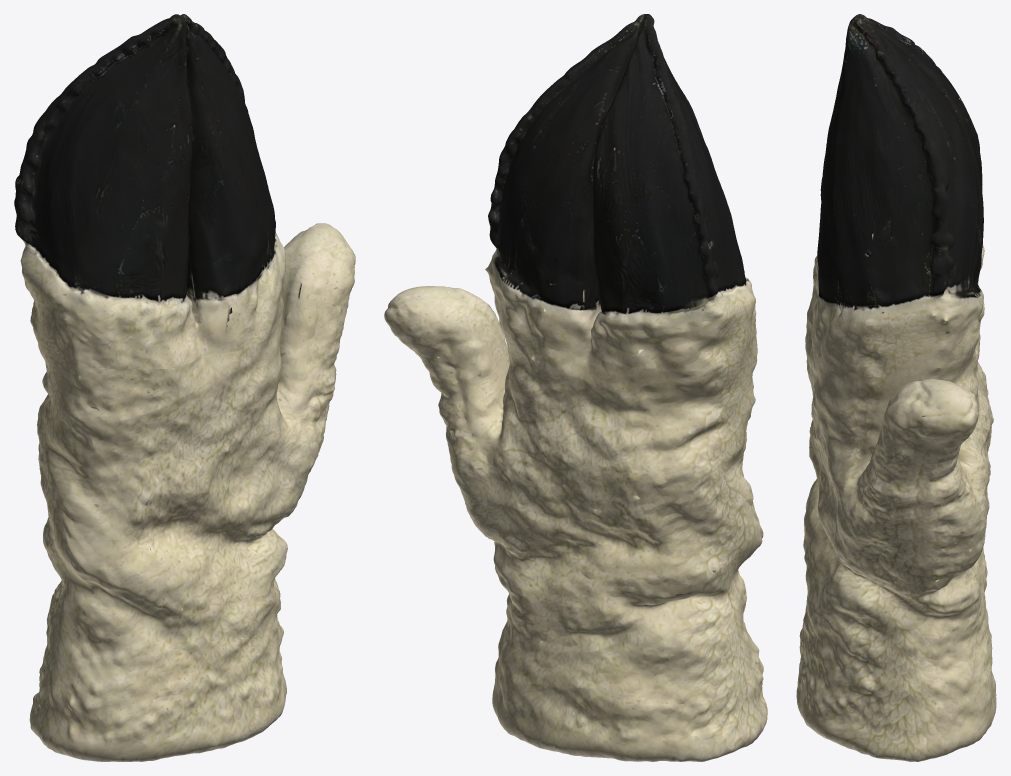
The model's file is Glove_L.glb.
3 renders of one model, left to right at view 1: azimuth 30°, elevation 25°; view 2: azimuth 150°, elevation 25°; view 3: azimuth 270°, elevation 25°, orthographic. The views are drawn at different scales.
Visible parts, largest first — view 1: Glove_L_Palm, Glove_L_Toe_RingLittle, Glove_L_Toe_IndexMiddle; view 2: Glove_L_Palm, Glove_L_Toe_RingLittle, Glove_L_Toe_IndexMiddle; view 3: Glove_L_Palm, Glove_L_Toe_IndexMiddle, Glove_L_Toe_RingLittle.
Boxes of the visible parts, left/top/right/bottom form: Glove_L_Palm: left=29, top=223, right=355, bottom=761; Glove_L_Toe_RingLittle: left=14, top=21, right=208, bottom=369; Glove_L_Toe_IndexMiddle: left=162, top=14, right=285, bottom=353; Glove_L_Palm: left=384, top=286, right=767, bottom=761; Glove_L_Toe_RingLittle: left=578, top=29, right=757, bottom=371; Glove_L_Toe_IndexMiddle: left=485, top=14, right=658, bottom=352; Glove_L_Palm: left=796, top=317, right=996, bottom=761; Glove_L_Toe_IndexMiddle: left=811, top=14, right=984, bottom=376; Glove_L_Toe_RingLittle: left=807, top=20, right=984, bottom=324.
Size of the model in its own units: 0.1208 by 0.247 by 0.0641.
1 material, 1 textured.
